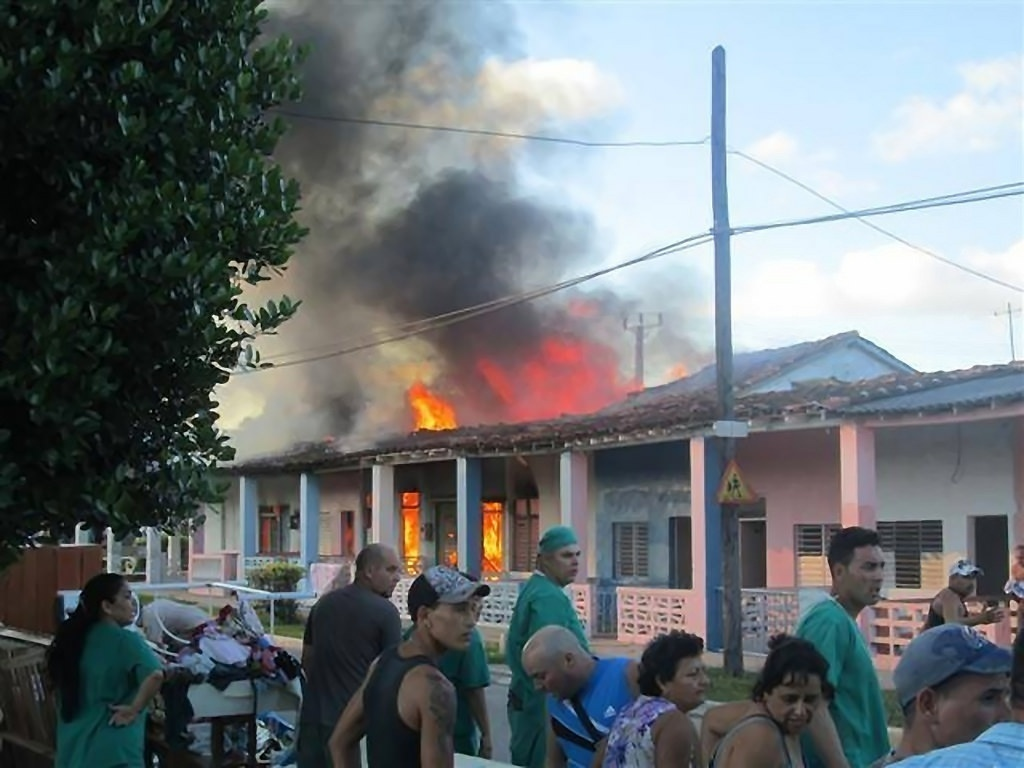fire: (482, 346, 616, 416), (408, 382, 458, 432), (400, 486, 424, 570), (480, 498, 504, 577)
